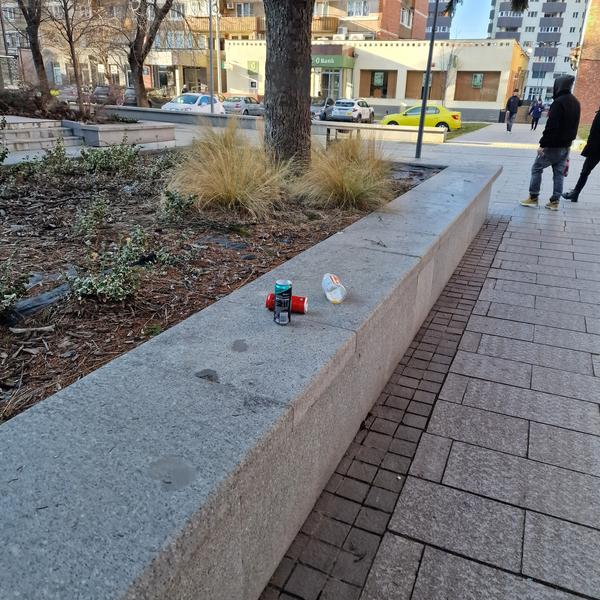can: (265, 292, 308, 315), (274, 279, 292, 326)
plastic_bottle: (317, 269, 349, 307)
